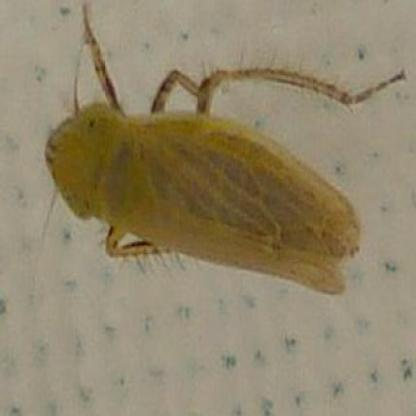green-leafhopper: (44, 4, 366, 284)
